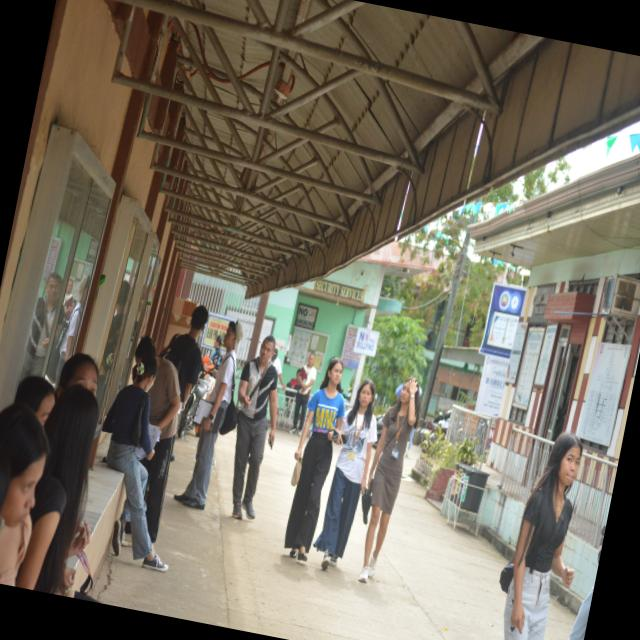person: (17, 385, 98, 593), (504, 433, 582, 639), (103, 358, 167, 572), (174, 321, 243, 510), (359, 379, 420, 582), (284, 358, 344, 561), (314, 379, 377, 569), (135, 337, 181, 543), (0, 404, 49, 586), (232, 336, 277, 519), (21, 273, 64, 378), (56, 276, 89, 380), (15, 376, 55, 426), (291, 354, 316, 433), (56, 353, 98, 398), (0, 451, 10, 512)
